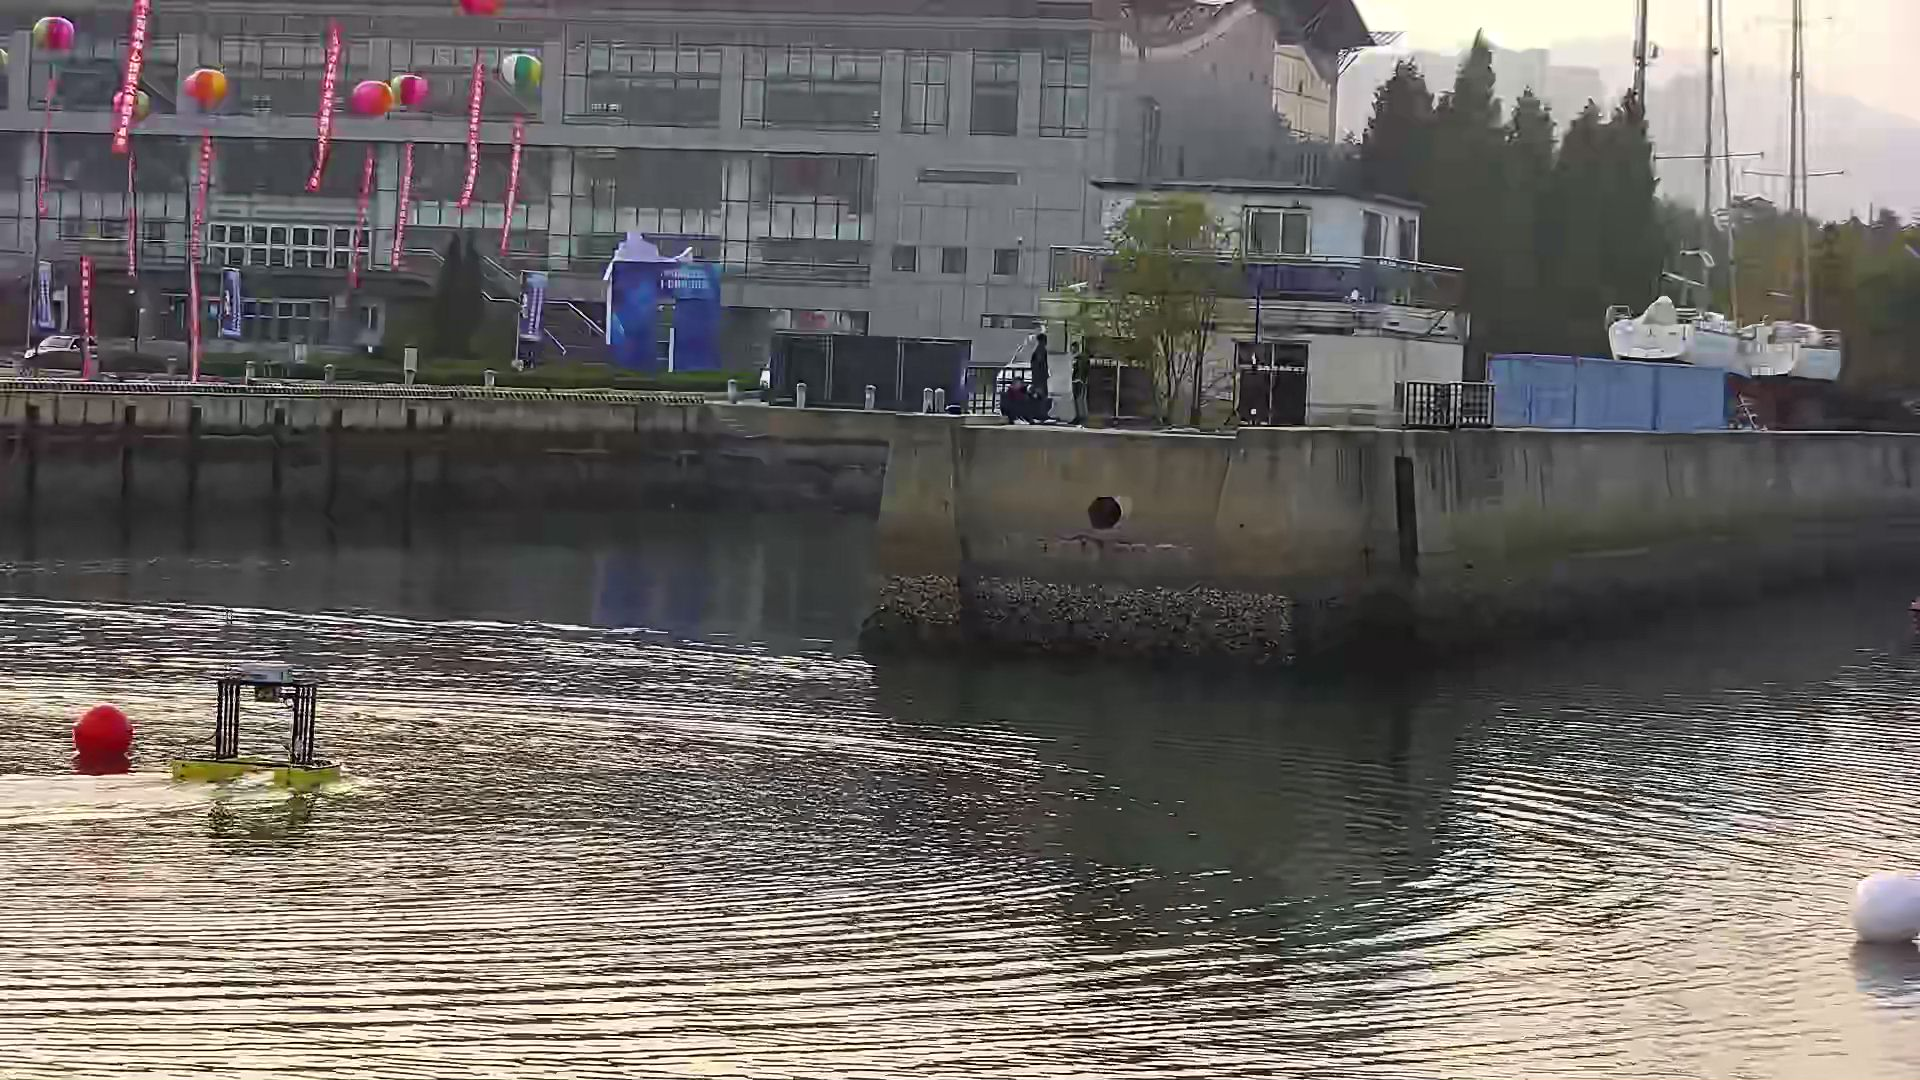ball: (1850, 869, 1920, 945), (73, 707, 140, 767)
boat: (167, 663, 347, 794)
